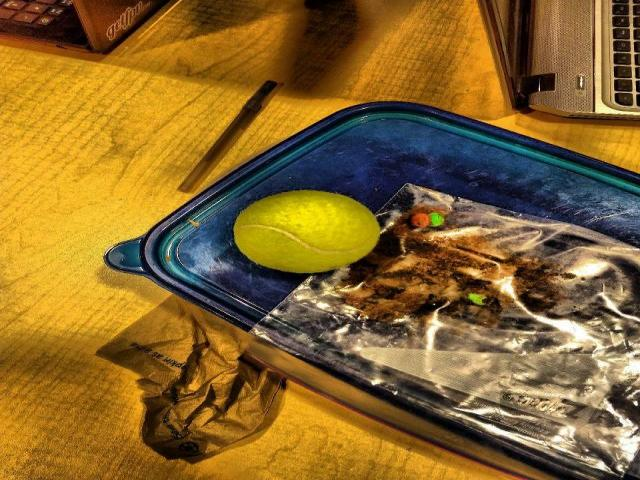tennis-ball: (232, 190, 380, 274)
